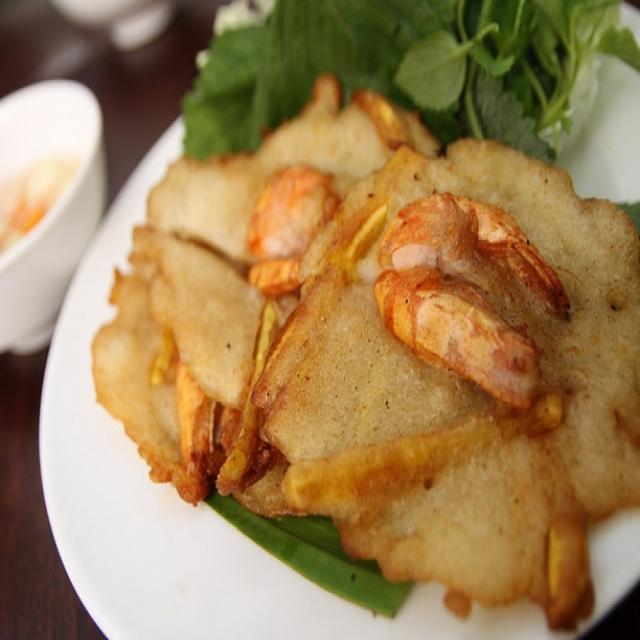炸货点心: (38, 17, 632, 621)
熟制海鲜: (38, 17, 632, 621)
